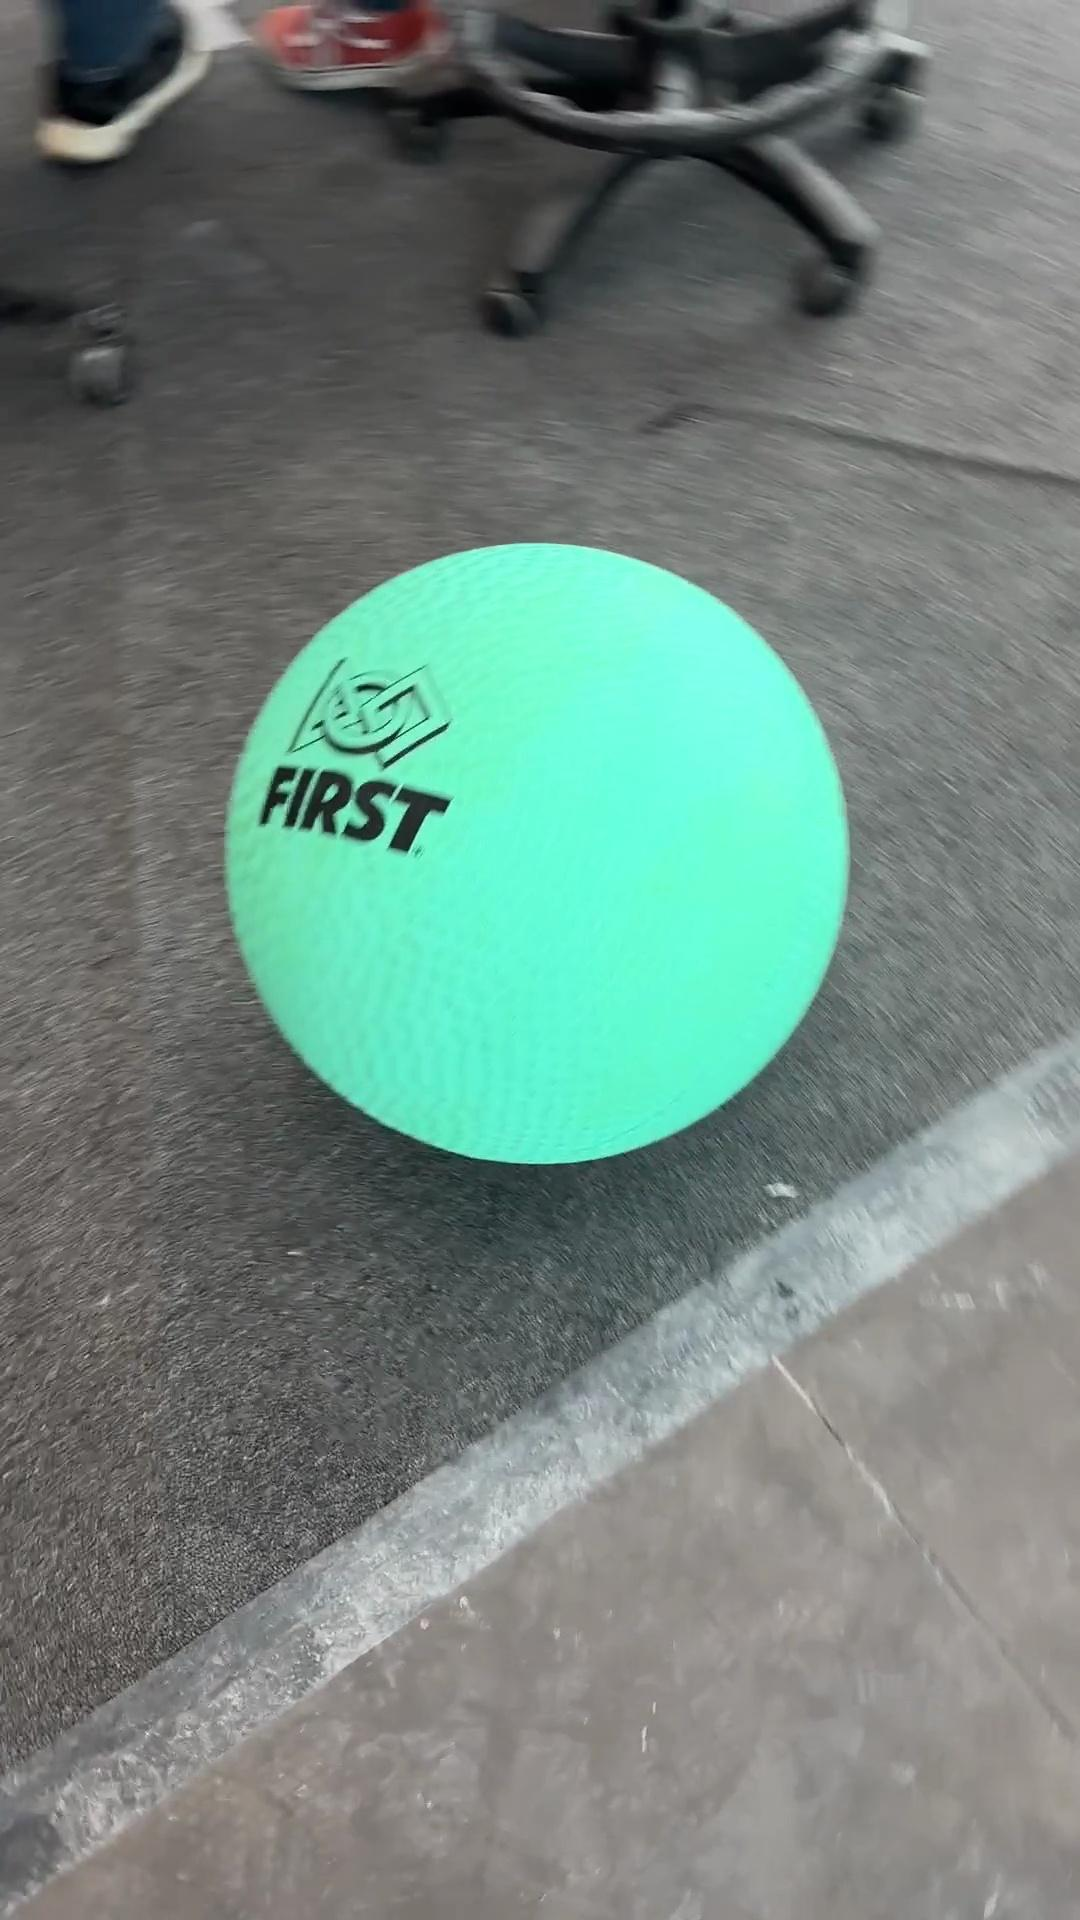ALGAE: (222, 537, 852, 1168)
